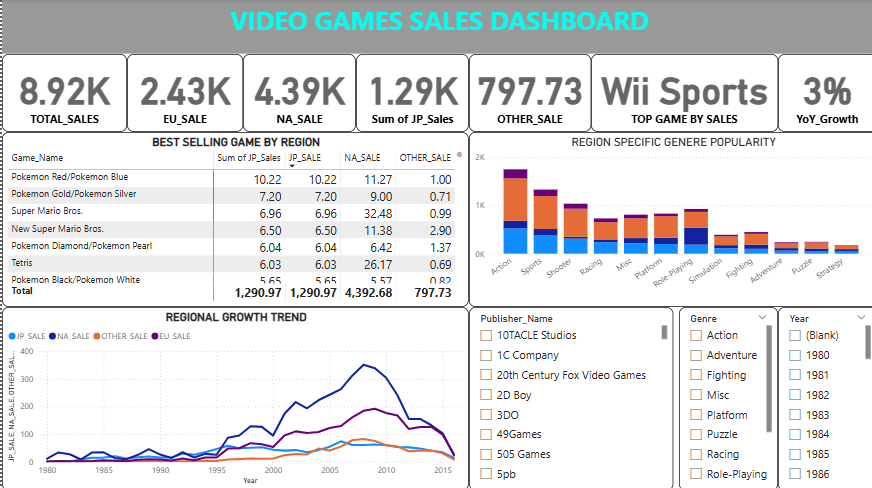

The page's visual inventory and layout, read from the dashboard file:
{"tool":"powerbi","page":{"name":"Page 1","canvas":[1280,720],"ordinal":0},"visuals":[{"type":"card","fields":{"Values":["video_game_sales.EU_SALE"]},"box":[182.9,80.5,169.8,114.1],"z":0},{"type":"card","fields":{"Values":["video_game_sales.total_sales"]},"box":[0,80.5,182.9,114.1],"z":1000},{"type":"card","fields":{"Values":["video_game_sales.NA_SALE"]},"box":[352.7,80.5,165.4,114.1],"z":2000},{"type":"card","fields":{"Values":["Sum(video_game_sales.JP_Sales)"]},"box":[518,80.5,165.4,114.1],"z":3000},{"type":"card","fields":{"Values":["video_game_sales.OTHER_SALE"]},"box":[683.4,80.5,178.5,114.1],"z":4000},{"type":"pivotTable","title":"BEST SELLING GAME BY REGION","fields":{"Rows":["video_game_sales.Game_Name"],"Values":["Sum(video_game_sales.JP_Sales)","video_game_sales.JP_SALE","video_game_sales.NA_SALE","video_game_sales.OTHER_SALE"]},"box":[0,194.6,683.4,256.1],"z":5000},{"type":"lineChart","title":"REGIONAL GROWTH TREND","fields":{"Category":["video_game_sales.Publish_Year.Variation.Date Hierarchy.Year"],"Y":["video_game_sales.JP_SALE","video_game_sales.NA_SALE","video_game_sales.OTHER_SALE","video_game_sales.EU_SALE"]},"box":[0,450.7,683.4,269.3],"z":6000},{"type":"columnChart","title":"REGION SPECIFIC GENERE POPULARITY","fields":{"Category":["video_game_genres.Genre"],"Y":["video_game_sales.EU_SALE","video_game_sales.JP_SALE","video_game_sales.NA_SALE","video_game_sales.OTHER_SALE"]},"box":[683.4,194.6,597.1,256.1],"z":7000},{"type":"card","fields":{"Values":["Min(video_game_sales.Game_Name)"]},"box":[862,80.5,273.7,114.1],"z":8000},{"type":"card","fields":{"Values":["video_game_sales.YoY_Growth"]},"box":[1135.6,80.5,144.9,114.1],"z":9000},{"type":"textbox","box":[0,0,1280.5,80.5],"z":10000},{"type":"slicer","fields":{"Values":["video_game_genres.Genre"]},"box":[990.7,450.7,144.9,269.3],"z":11000},{"type":"slicer","fields":{"Values":["video_game_sales.Publish_Year.Variation.Date Hierarchy.Year"]},"box":[1135.6,450.7,144.9,269.3],"z":12000},{"type":"slicer","fields":{"Values":["video_game_publishers.Publisher_Name"]},"box":[683.4,450.7,298.5,269.3],"z":13000}]}

Visuals, with their boxes in screenshot pixels (x1, y1, x2, y2), scaled from the page's 1280x720 canvas onto the 872x488 screenshot:
card - video_game_sales.EU_SALE: bbox(125, 55, 240, 132)
card - video_game_sales.total_sales: bbox(0, 55, 125, 132)
card - video_game_sales.NA_SALE: bbox(240, 55, 353, 132)
card - Sum(video_game_sales.JP_Sales): bbox(353, 55, 466, 132)
card - video_game_sales.OTHER_SALE: bbox(466, 55, 587, 132)
"BEST SELLING GAME BY REGION" pivotTable: bbox(0, 132, 466, 305)
"REGIONAL GROWTH TREND" lineChart: bbox(0, 305, 466, 487)
"REGION SPECIFIC GENERE POPULARITY" columnChart: bbox(466, 132, 871, 305)
card - Min(video_game_sales.Game_Name): bbox(587, 55, 774, 132)
card - video_game_sales.YoY_Growth: bbox(774, 55, 871, 132)
textbox: bbox(0, 0, 871, 55)
slicer - video_game_genres.Genre: bbox(675, 305, 774, 487)
slicer - video_game_sales.Publish_Year.Variation.Date Hierarchy.Year: bbox(774, 305, 871, 487)
slicer - video_game_publishers.Publisher_Name: bbox(466, 305, 669, 487)
